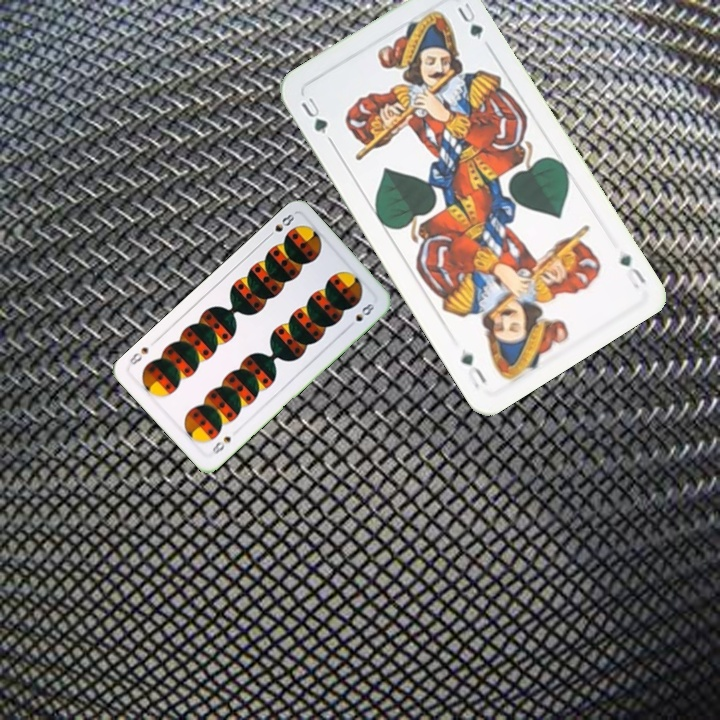GU: (297, 93, 331, 137), (615, 248, 649, 292)
S8: (263, 210, 297, 241), (207, 432, 234, 457)
